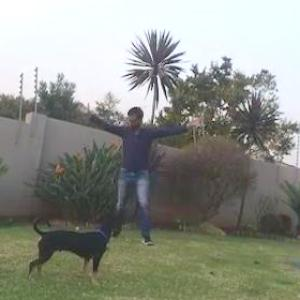takeoff: (81, 105, 206, 234)
